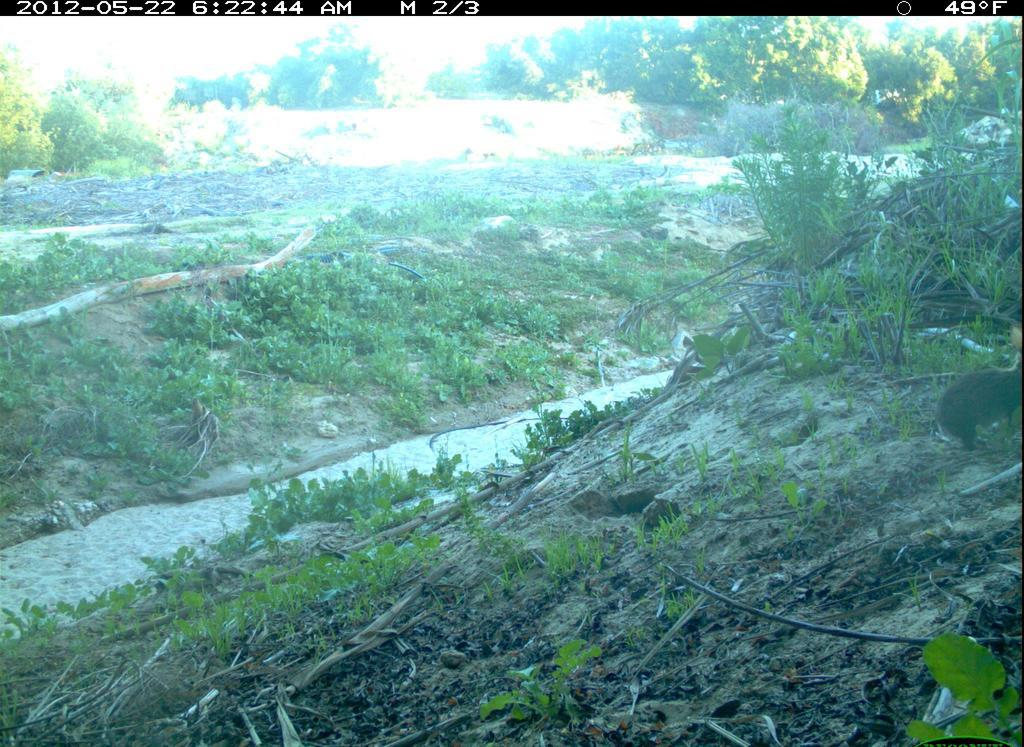rabbit: (927, 315, 1022, 463)
